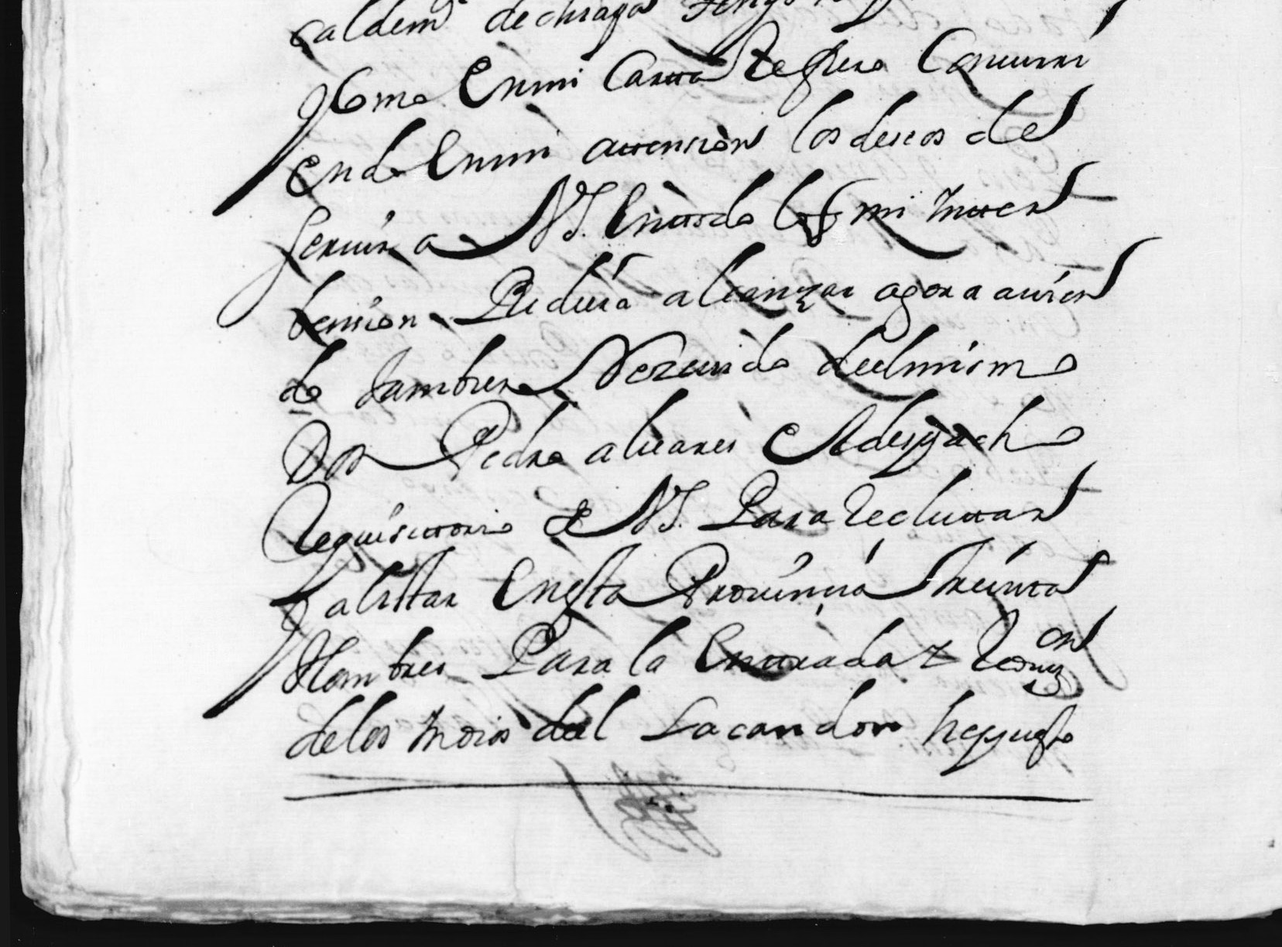lacandon: (639, 678, 902, 741)
